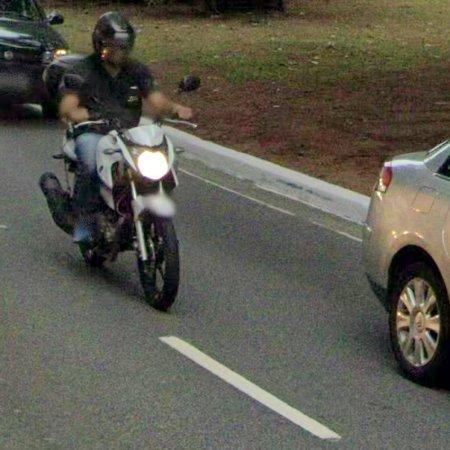motorcycles: (39, 118, 197, 310)
